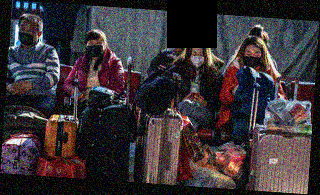with_mask: (18, 22, 39, 46), (85, 38, 105, 58), (242, 49, 262, 67), (190, 49, 205, 67)
